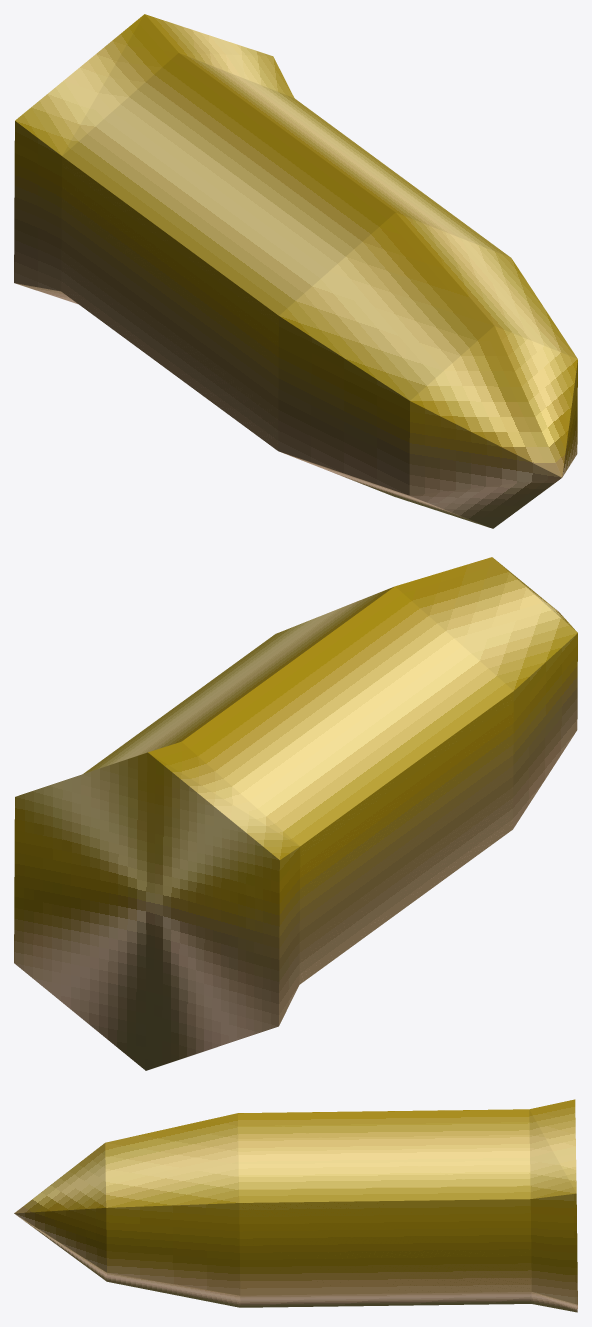
File: Bullet.obj
3 renders of one model, top to bottom at view 1: azimuth 30°, elevation 25°; view 2: azimuth 150°, elevation 25°; view 3: azimuth 270°, elevation 25°, orthographic. The views are drawn at different scales.
Parts seen in each view (by area): view 1: ShapeIndexedFaceS.044; view 2: ShapeIndexedFaceS.044; view 3: ShapeIndexedFaceS.044.
Part boxes in pixels (x1,y1,x2,y2): ShapeIndexedFaceS.044: [14, 14, 577, 528]; ShapeIndexedFaceS.044: [14, 557, 577, 1070]; ShapeIndexedFaceS.044: [14, 1099, 577, 1312].
Size of the model in its own units: 1.35 by 1.55 by 3.71.
